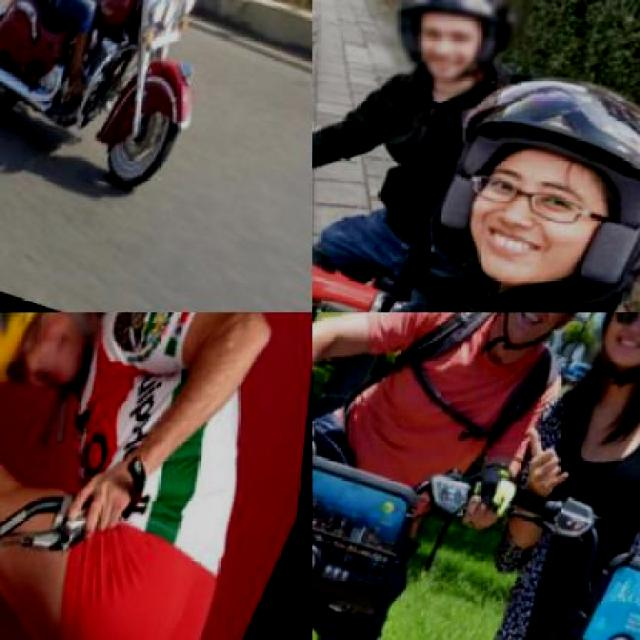With Helmet: (412, 47, 638, 310), (0, 312, 149, 448), (368, 0, 552, 109), (486, 312, 626, 372)
